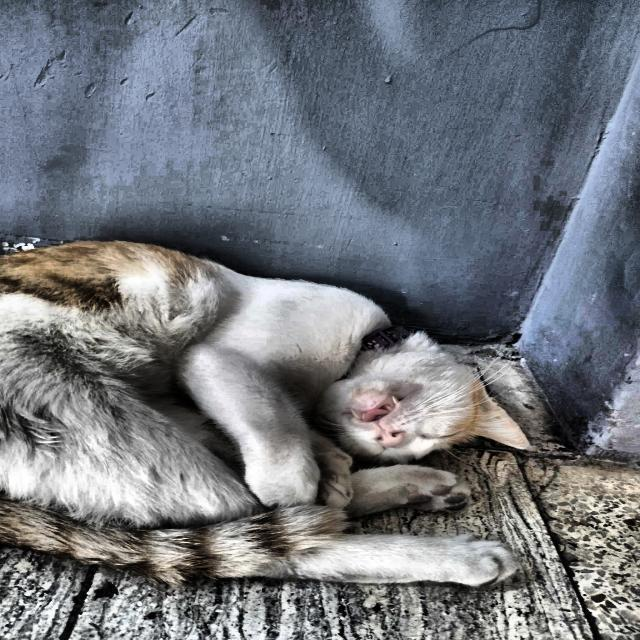Healthy skin: (60, 268, 234, 414), (224, 473, 466, 576), (300, 349, 503, 454)
